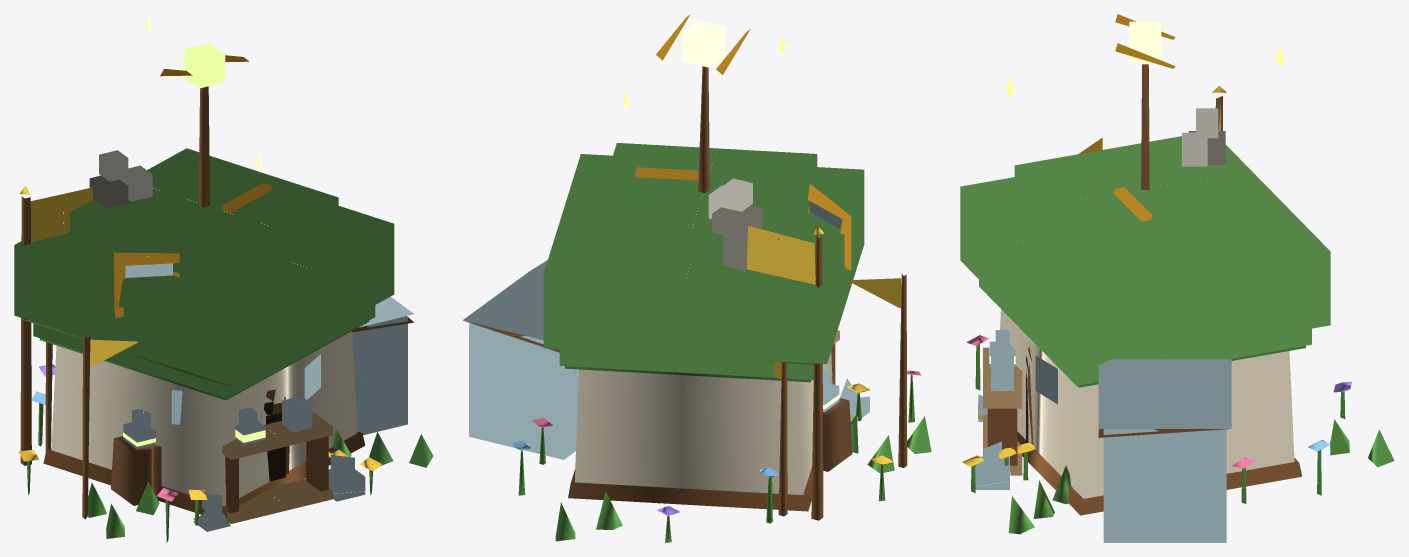
File: pollen-lab-blocky_lod1.glb
3 views of the same model, side by side, from view 1: azimuth 30°, elevation 25°; view 2: azimuth 150°, elevation 25°; view 3: azimuth 270°, elevation 25° (orthographic). The views are drawn at different scales.
Visible parts, largest first — view 1: lv3, lv2, lv1; view 2: lv3, lv2, lv1; view 3: lv3, lv2, lv1.
Part boxes in pixels (x1,y1,x2,y2): lv3: (14, 14, 433, 542); lv2: (31, 165, 393, 525); lv1: (111, 409, 351, 515); lv3: (462, 14, 931, 542); lv2: (532, 167, 894, 529); lv1: (822, 369, 858, 471); lv3: (960, 14, 1394, 542); lv2: (979, 132, 1349, 518); lv1: (1017, 442, 1070, 503).
Size of the model in its own units: 1.8 by 1.9 by 1.76.
